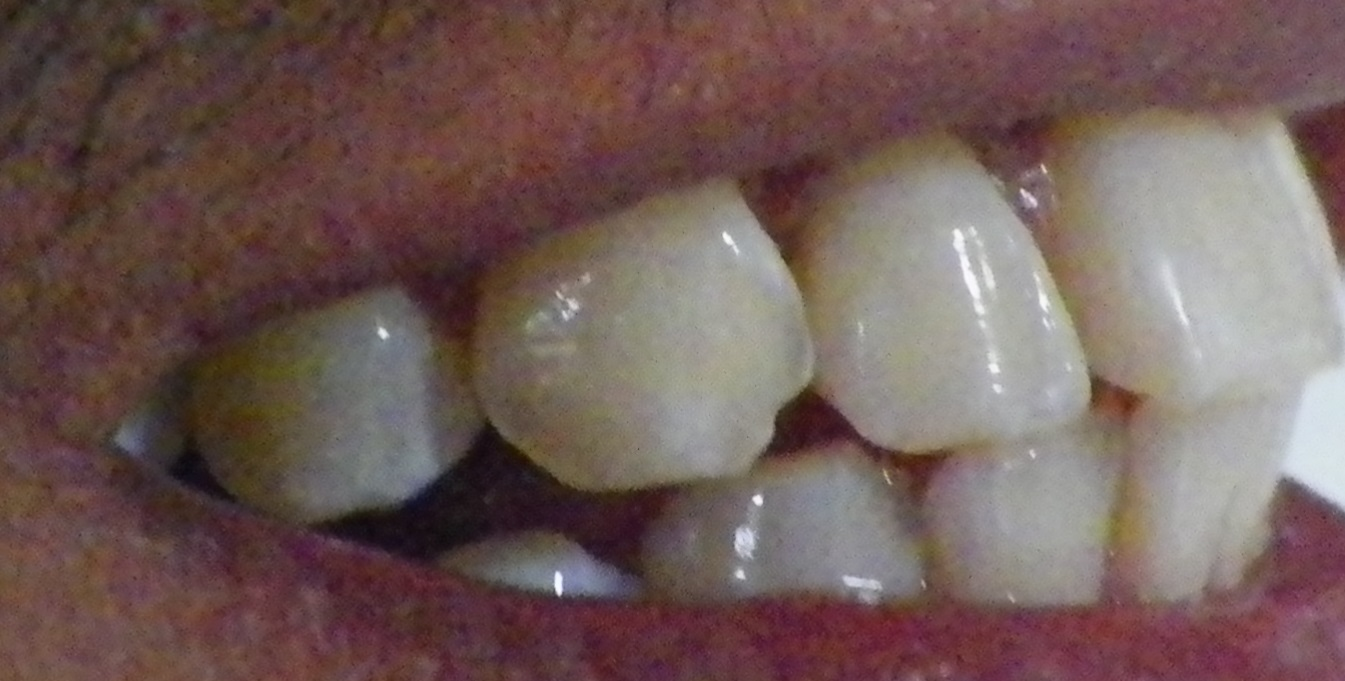boca: (179, 105, 1339, 610)
